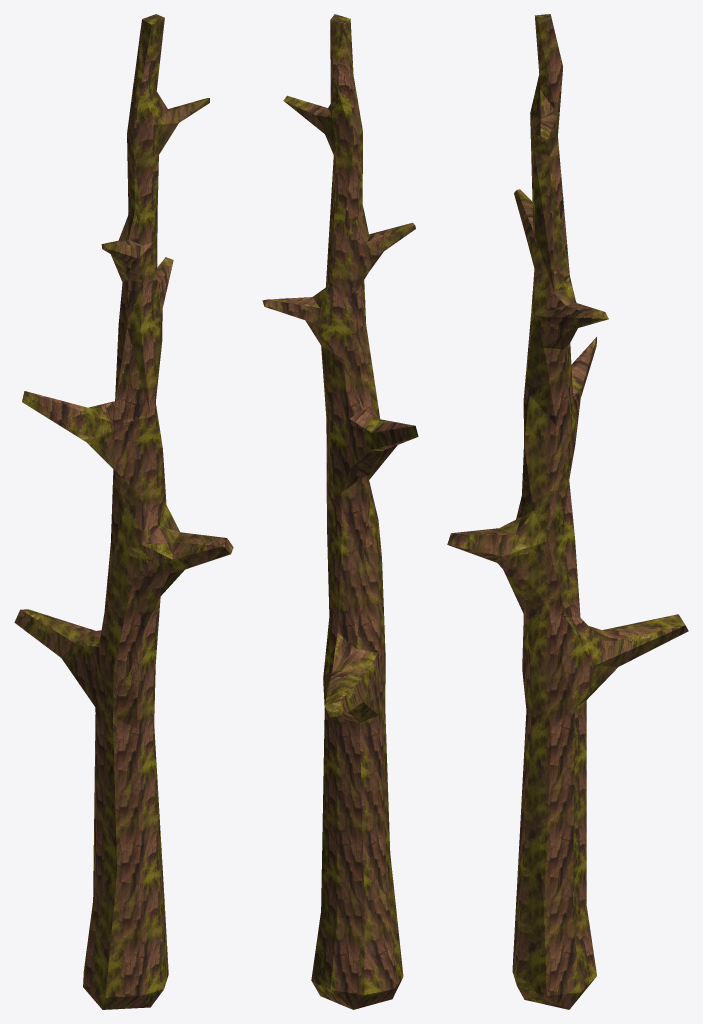
The model's file is dtree_bare_6.glb.
3 views of the same model, side by side, from view 1: azimuth 30°, elevation 25°; view 2: azimuth 150°, elevation 25°; view 3: azimuth 270°, elevation 25° (orthographic). The views are drawn at different scales.
Visible parts, largest first — view 1: model; view 2: model; view 3: model.
Part boxes in pixels (box(x1,y1,x2,y2)): model: box(14, 14, 233, 1009); model: box(262, 14, 418, 1009); model: box(447, 14, 688, 1009).
Bounding box in the file's own units: 1.23 × 7.21 × 1.59.
Materials: 1 (1 with a texture image).
